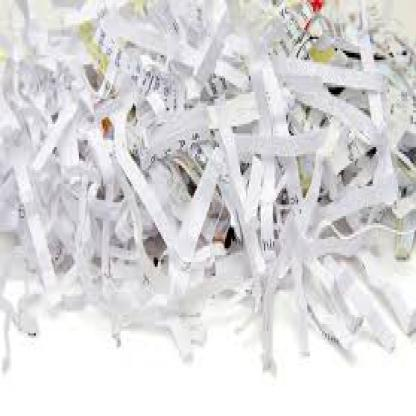paper: (0, 0, 415, 375)
